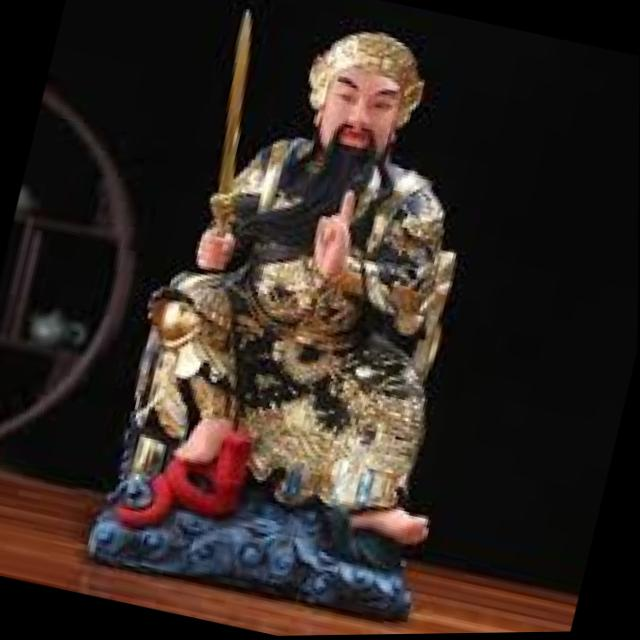Xuan wu: (129, 0, 510, 536)
